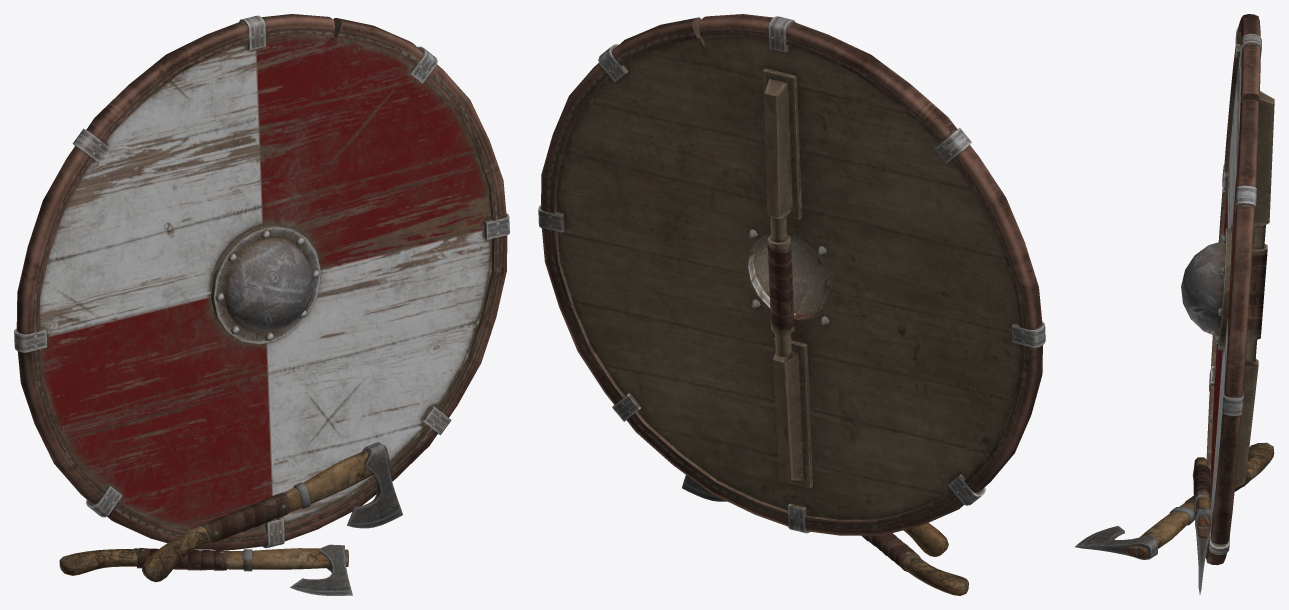
The picture shows the model from 3 angles, left to right: view 1: azimuth 30°, elevation 25°; view 2: azimuth 150°, elevation 25°; view 3: azimuth 270°, elevation 25°; orthographic projection. The views are drawn at different scales.
Parts seen in each view (by area): view 1: shield002, axe002, axe003; view 2: shield002, axe003, axe002; view 3: shield002, axe003, axe002.
Part boxes in pixels (box(x1,y1,x2,y2)): shield002: box(14, 14, 509, 549); axe002: box(142, 442, 402, 582); axe003: box(59, 544, 352, 595); shield002: box(538, 14, 1045, 535); axe003: box(861, 533, 968, 595); axe002: box(682, 475, 948, 556); shield002: box(1181, 14, 1274, 565); axe003: box(1075, 442, 1274, 559); axe002: box(1192, 457, 1212, 594).
Size of the model in its own units: 0.8078 by 0.8089 by 0.2905.
Materials: 1 (1 with a texture image).
